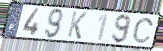1: (97, 13, 109, 42)
4: (21, 7, 41, 37)
9: (44, 8, 66, 41), (111, 14, 132, 45)
C: (131, 17, 155, 44)
K: (66, 10, 88, 41)
